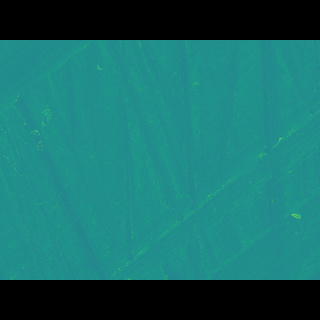Loch: (75, 108, 320, 249), (0, 69, 94, 123)
